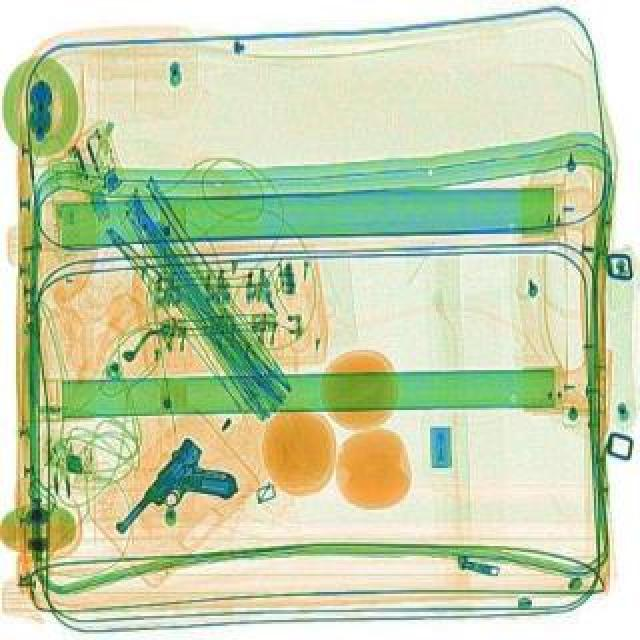gun: (112, 434, 248, 566)
